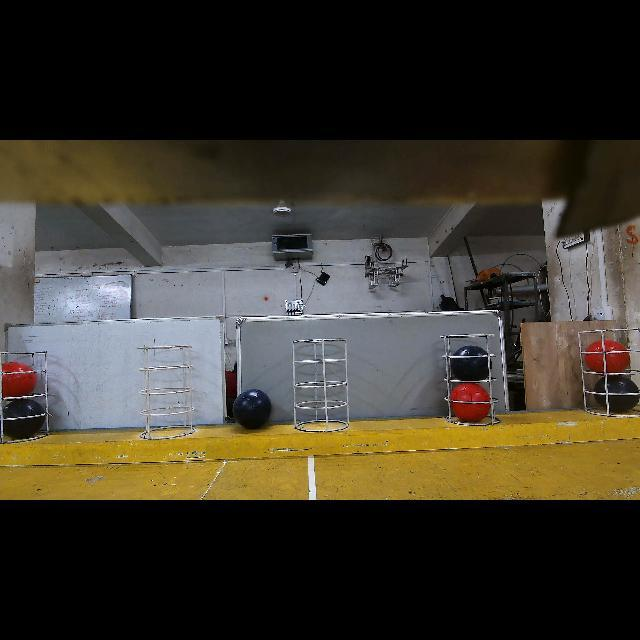P: (3, 398, 46, 439), (594, 375, 639, 412), (451, 345, 492, 381)
R: (585, 340, 630, 373), (451, 383, 489, 422), (2, 362, 36, 397)
S: (444, 332, 500, 431), (295, 336, 351, 434), (139, 346, 195, 442), (580, 326, 636, 418), (4, 350, 52, 434)
